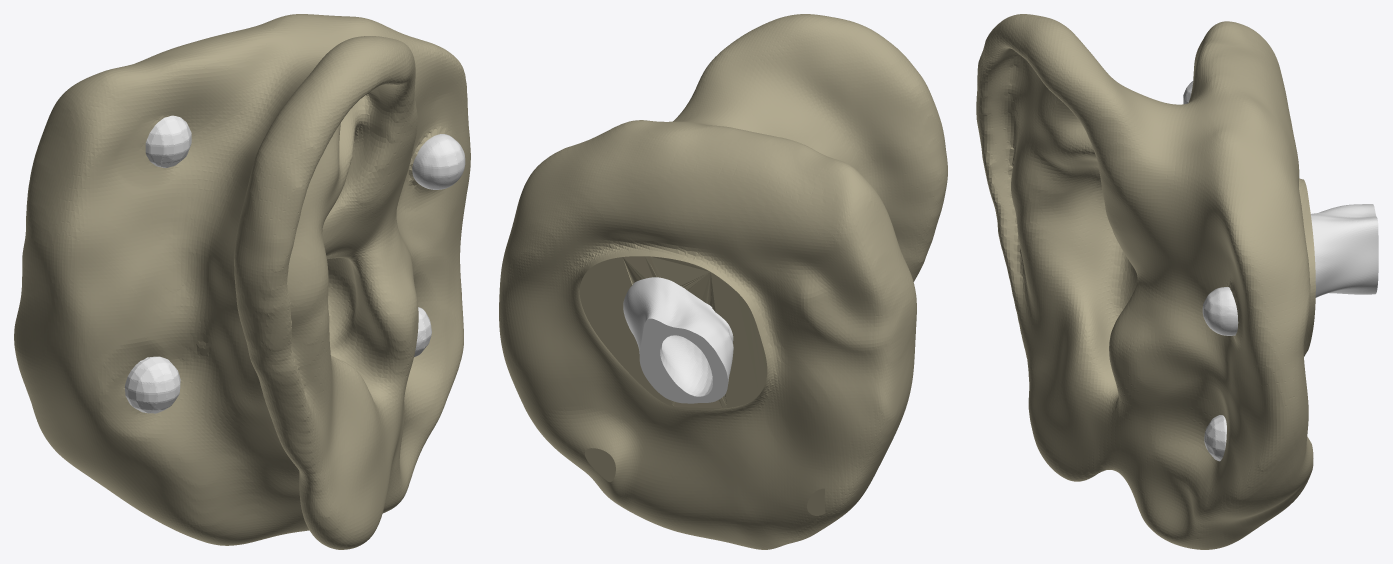
The model's file is EarModel.glb.
The picture shows the model from 3 angles, left to right: view 1: azimuth 30°, elevation 25°; view 2: azimuth 150°, elevation 25°; view 3: azimuth 270°, elevation 25°; orthographic projection. The views are drawn at different scales.
Parts seen in each view (by area): view 1: cartilage_print.001; view 2: cartilage_print.001; view 3: cartilage_print.001.
Part boxes in pixels (x1,y1,x2,y2): cartilage_print.001: [14, 14, 470, 549]; cartilage_print.001: [499, 14, 947, 549]; cartilage_print.001: [976, 14, 1378, 549].
Bounding box in the file's own units: 2.55 × 2.93 × 2.21.
